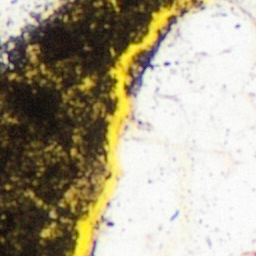cement_matrix: (0, 0, 174, 255), (129, 50, 151, 89), (67, 191, 75, 201), (83, 80, 90, 87), (46, 229, 51, 233)
cracks: (69, 0, 205, 255), (128, 49, 152, 90)
gravel_crushed_stones: (93, 0, 255, 255), (0, 0, 67, 62), (68, 192, 74, 200), (84, 81, 89, 86), (47, 230, 50, 232)
